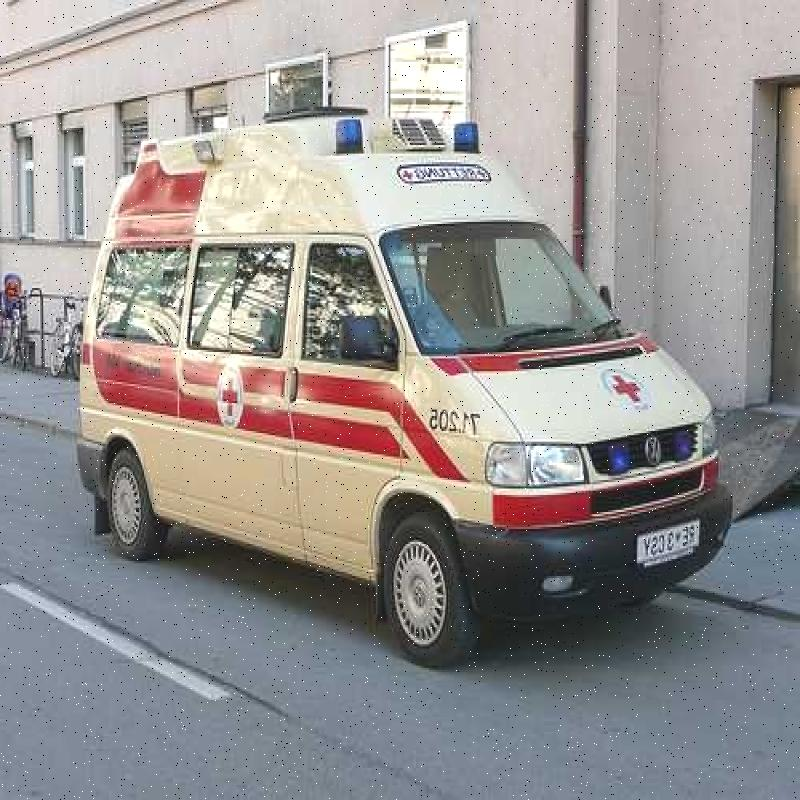AmbulanceSiren: (330, 104, 374, 158), (446, 116, 481, 171)
